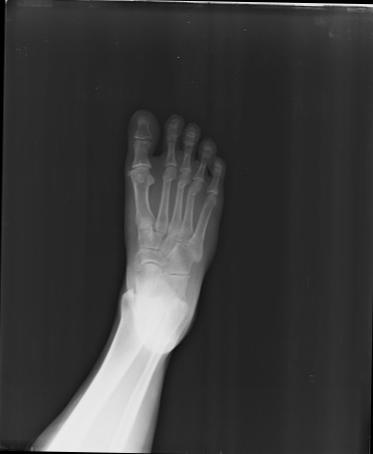fractured: (131, 217, 148, 248)
